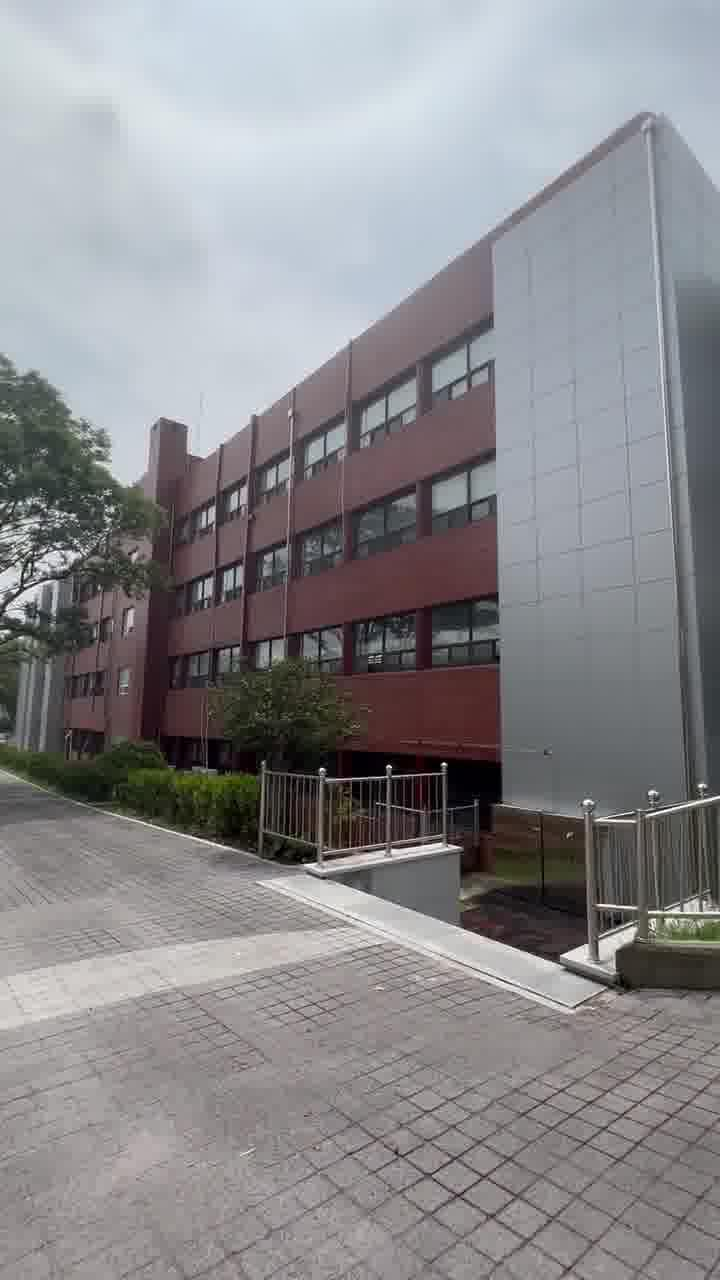building: (150, 308, 720, 722)
